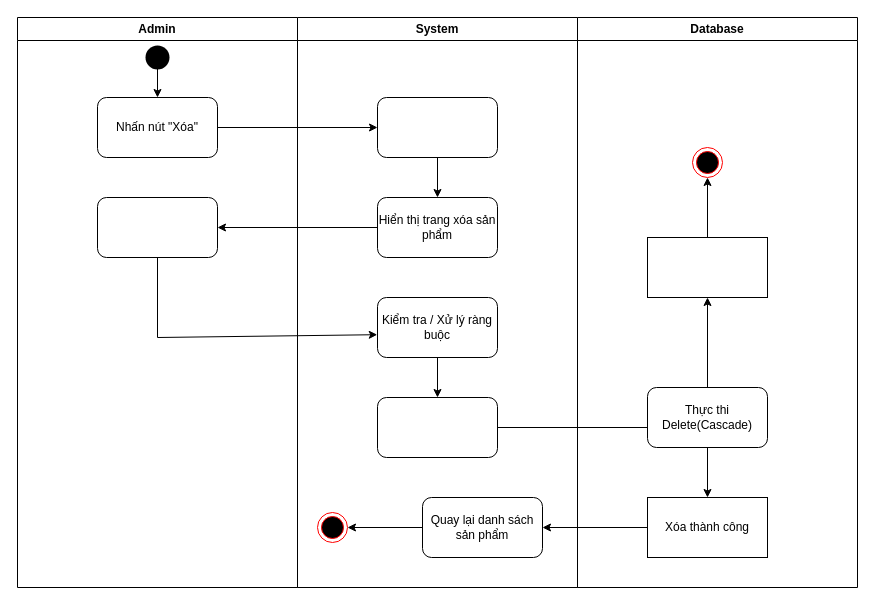
Some shapes in this 875 by 605 pixel diagram are drawn without their labels. The centre of each missing label's shape, as x and y in pixels:
Nhấn nút xác nhận "Xóa": point (157, 227)
Thực thi Delete: point (437, 427)
Truy vấn sản phẩm bằng ID: point (437, 127)
Xóa thất bại / Redirect: point (707, 267)
